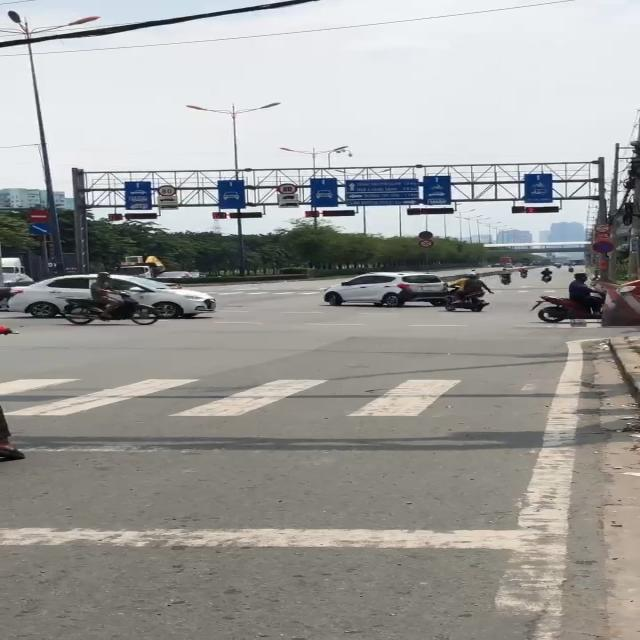Bien bao cam di nguoc chieu: (26, 209, 52, 221)
Bien bao huong phai di vong chuong ngai vat: (26, 221, 54, 236)
Bien bao toc do toi da cho phep: (276, 182, 301, 195), (156, 185, 178, 197)
